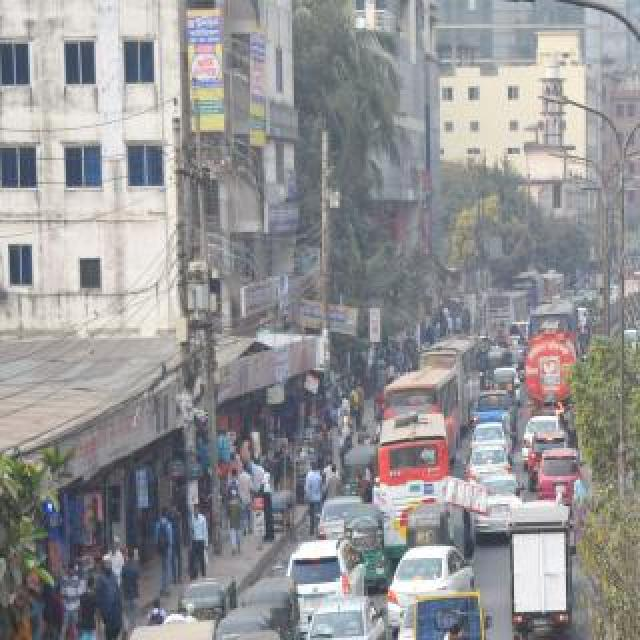bus: (379, 412, 451, 548), (383, 366, 463, 456), (422, 333, 478, 417), (485, 293, 529, 337), (531, 299, 579, 333)
car: (387, 542, 477, 616), (287, 537, 367, 615), (304, 594, 386, 640), (472, 472, 522, 532), (539, 449, 583, 499), (530, 431, 570, 479), (522, 414, 564, 458), (468, 445, 512, 483), (470, 423, 512, 459)
truck: (521, 328, 581, 418)
van: (504, 498, 576, 640), (408, 590, 488, 640), (473, 391, 517, 433), (136, 626, 224, 640)
